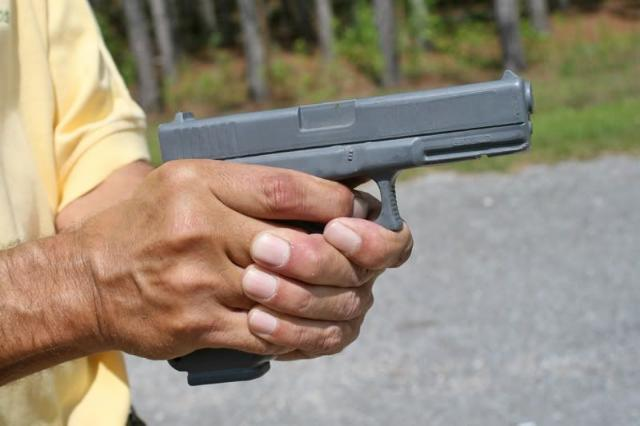handgun: (150, 65, 542, 390)
